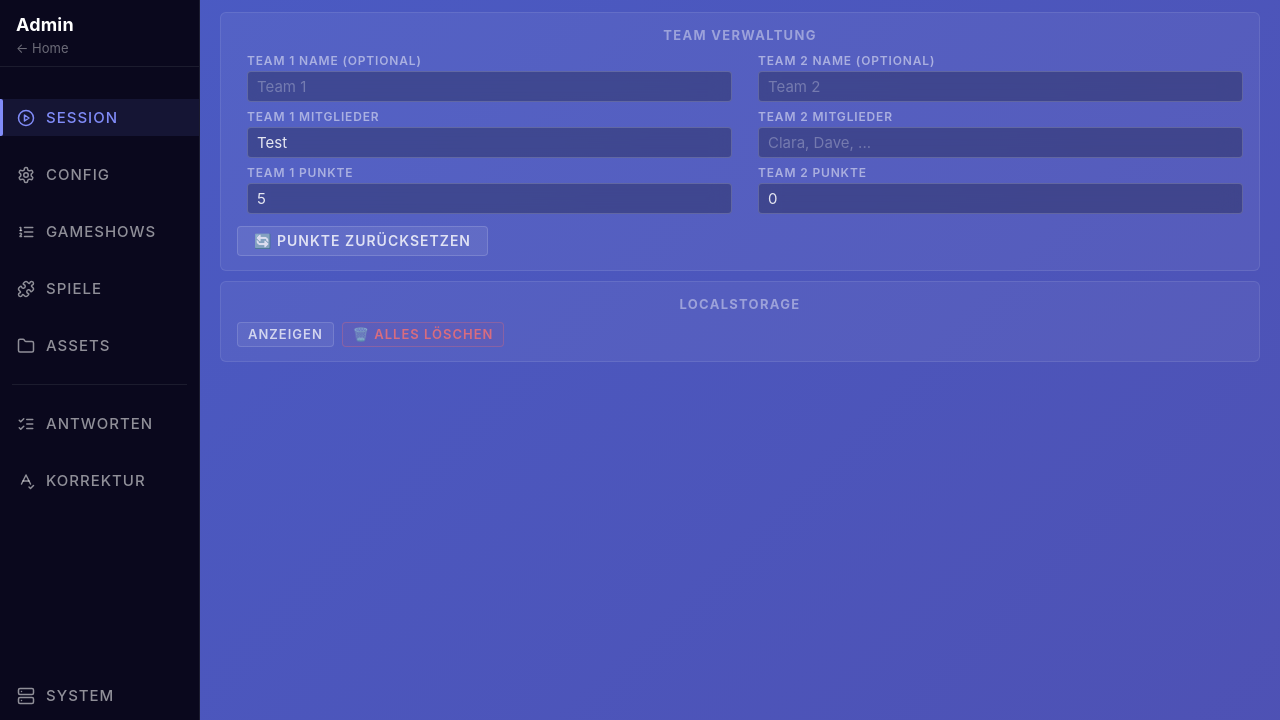
AdminScreen › shows localStorage items when Anzeigen is clicked
Click the button "Anzeigen" at coordinates (285, 334), box [237, 322, 334, 347]
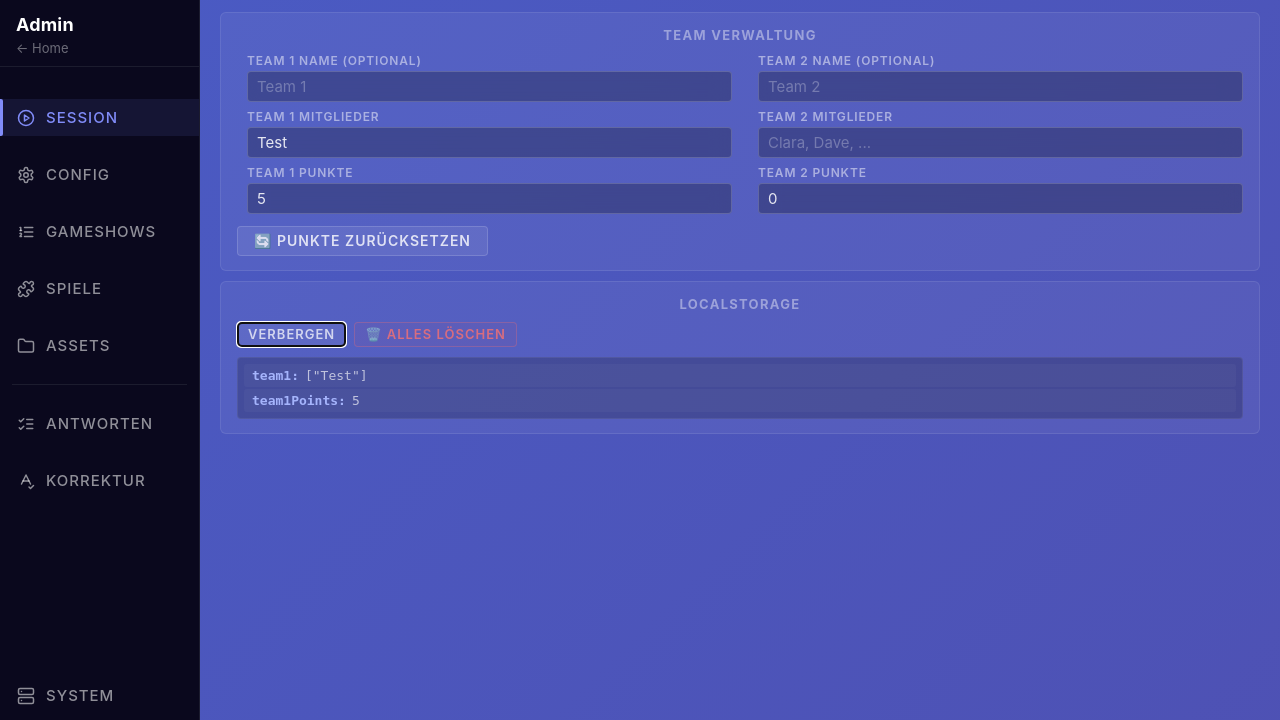
Result: the text "team1:" is shown at [252, 368, 299, 383]
Result: the text "team1Points:" is shown at [252, 393, 346, 408]
